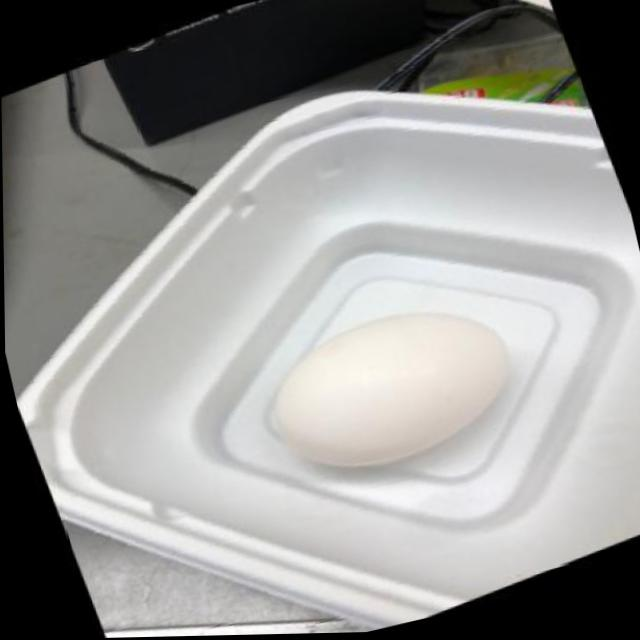egg: (252, 291, 530, 491)
